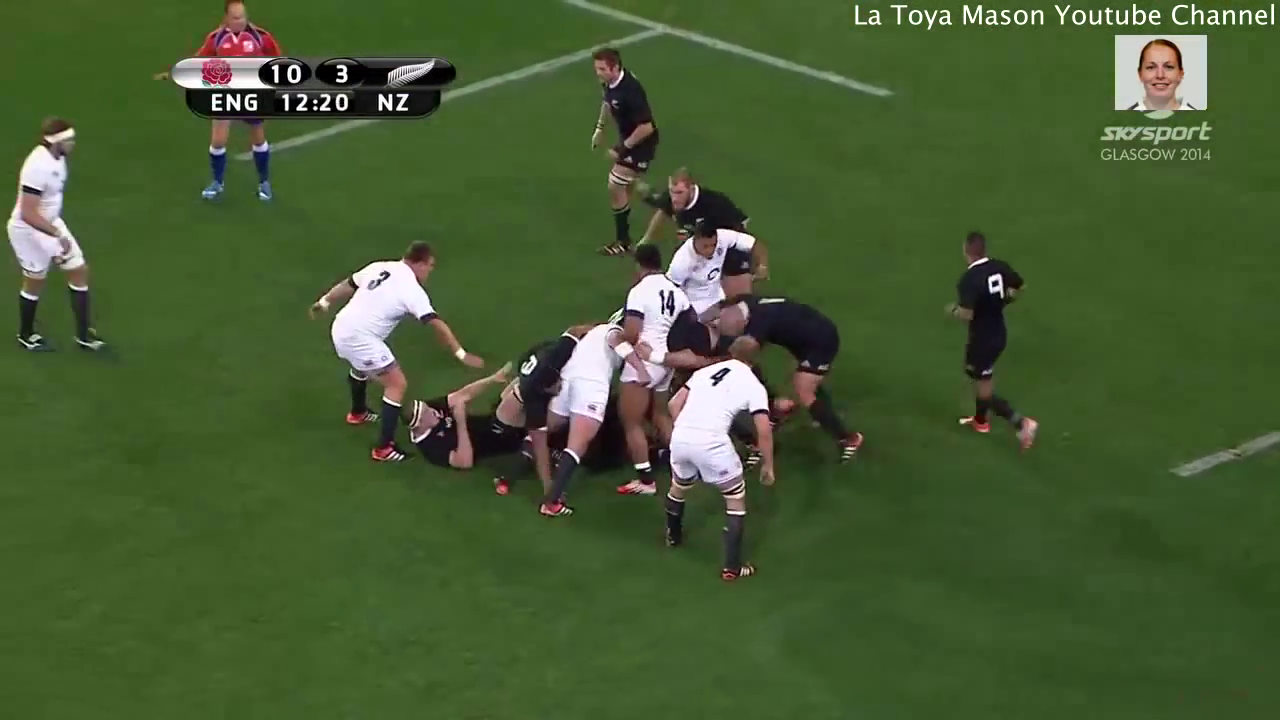maul: (436, 209, 860, 515)
player: (649, 326, 781, 583), (326, 229, 468, 459), (1, 112, 108, 365), (719, 286, 870, 464), (936, 220, 1045, 462), (614, 236, 677, 505), (584, 45, 662, 250), (668, 215, 763, 292), (656, 164, 725, 218)
